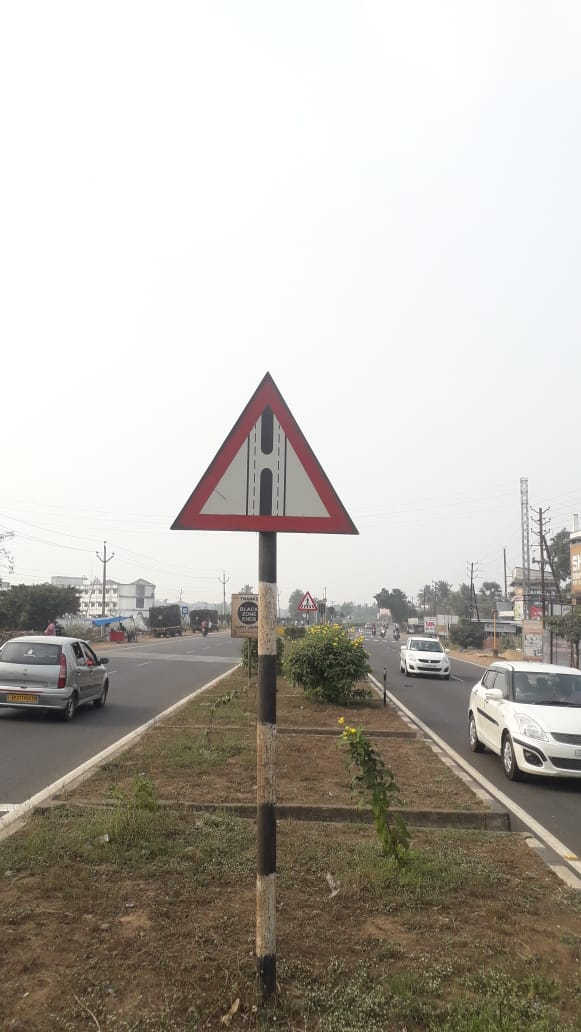highway go straight: (183, 354, 457, 576)
